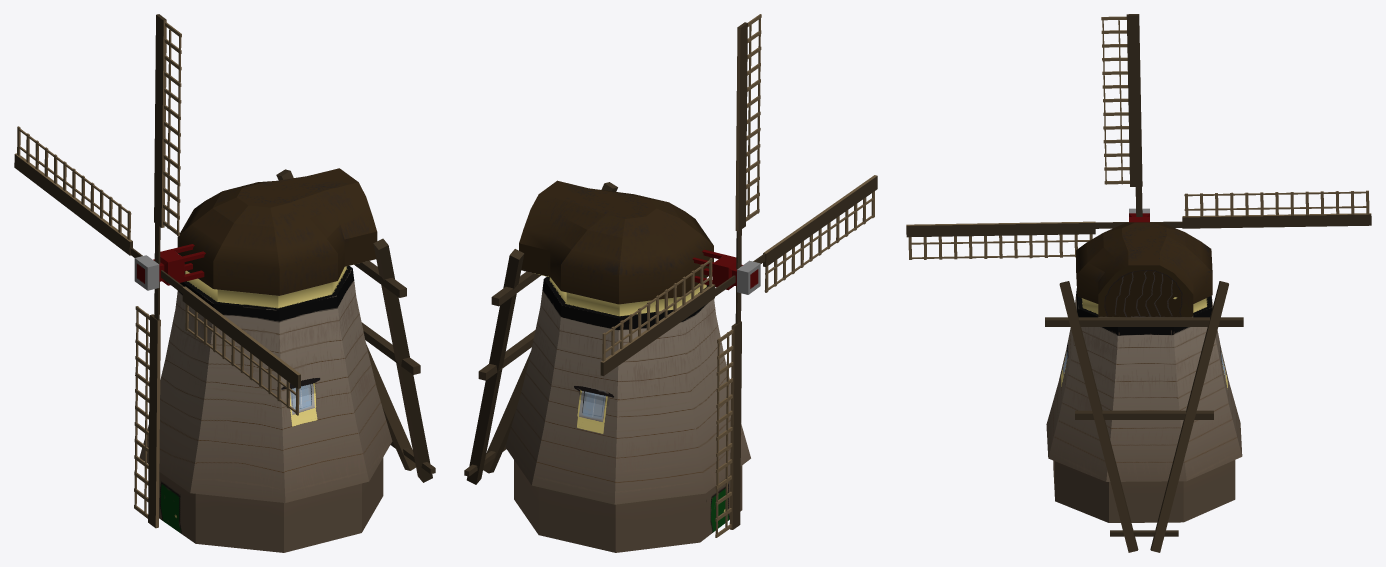
The model's file is Windmill_Final_Animated.fbx.
3 views of the same model, side by side, from view 1: azimuth 30°, elevation 25°; view 2: azimuth 150°, elevation 25°; view 3: azimuth 270°, elevation 25° (orthographic). The views are drawn at different scales.
Parts seen in each view (by area): view 1: Main_Buildin, Propellers, Supports, Front_Box; view 2: Main_Buildin, Propellers, Supports, Front_Box; view 3: Main_Buildin, Propellers, Supports.
Part boxes in pixels (x1,y1,x2,y2): Main_Buildin: [139, 168, 392, 552]; Propellers: [14, 14, 300, 528]; Supports: [276, 169, 435, 482]; Front_Box: [134, 244, 205, 290]; Main_Buildin: [505, 180, 750, 552]; Propellers: [600, 14, 877, 537]; Supports: [464, 182, 617, 484]; Front_Box: [692, 249, 760, 294]; Main_Buildin: [1046, 222, 1242, 522]; Propellers: [906, 14, 1371, 259]; Supports: [1045, 281, 1243, 552].
Size of the model in its own units: 109 by 192 by 187.
